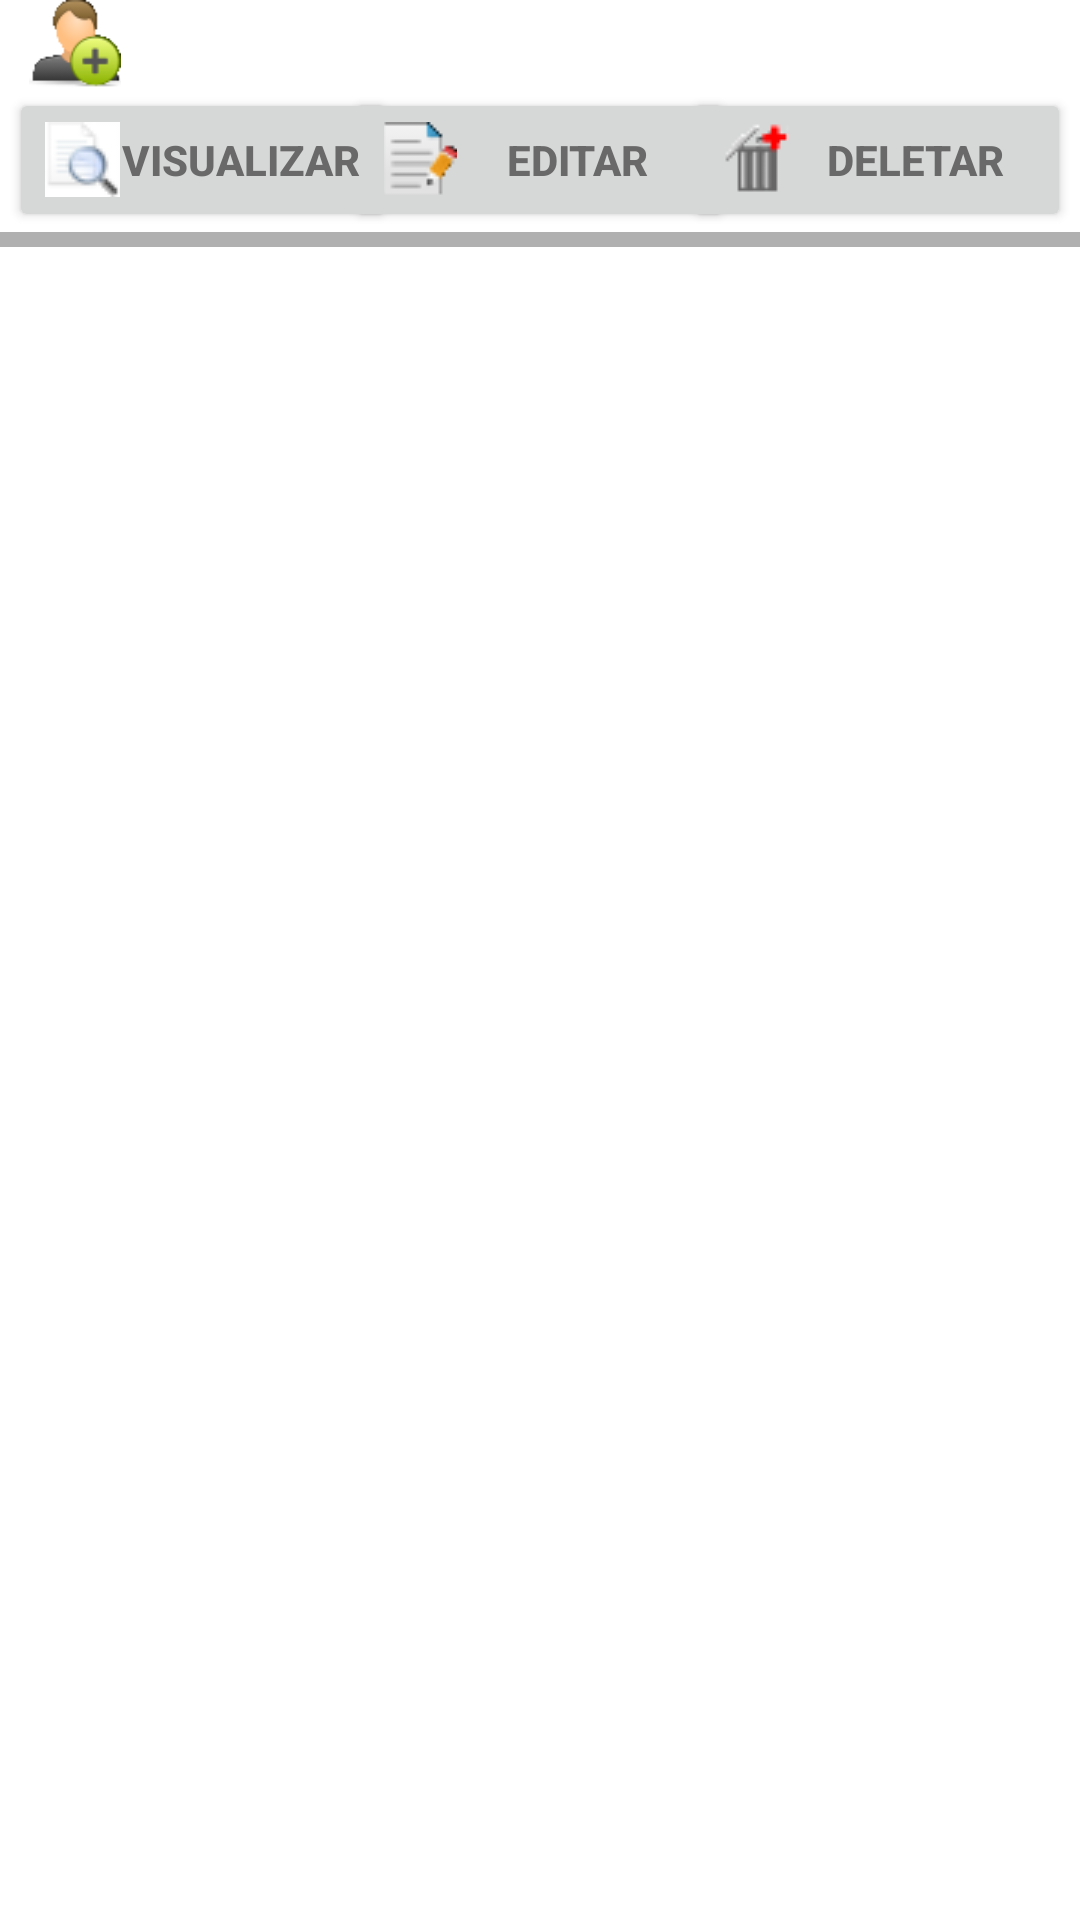

Icon click points for this 1080×1920 phone screenshot, format [x,y]:
contato: [76,43]
